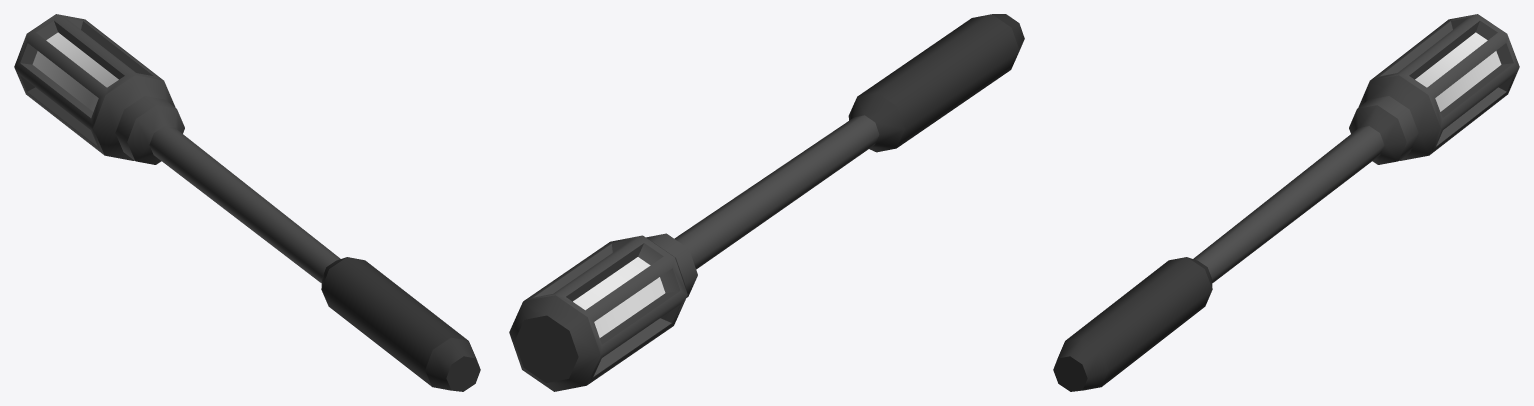
The model's file is stun baton.fbx.
The picture shows the model from 3 angles, left to right: view 1: azimuth 30°, elevation 25°; view 2: azimuth 150°, elevation 25°; view 3: azimuth 330°, elevation 25°; orthographic projection. The views are drawn at different scales.
Parts seen in each view (by area): view 1: StunBaton; view 2: StunBaton; view 3: StunBaton.
Part boxes in pixels (left/top/right/bottom): StunBaton: left=14, top=14, right=480, bottom=391; StunBaton: left=509, top=14, right=1024, bottom=391; StunBaton: left=1053, top=14, right=1519, bottom=391.
Size of the model in its own units: 0.0963 by 0.1002 by 0.8377.
